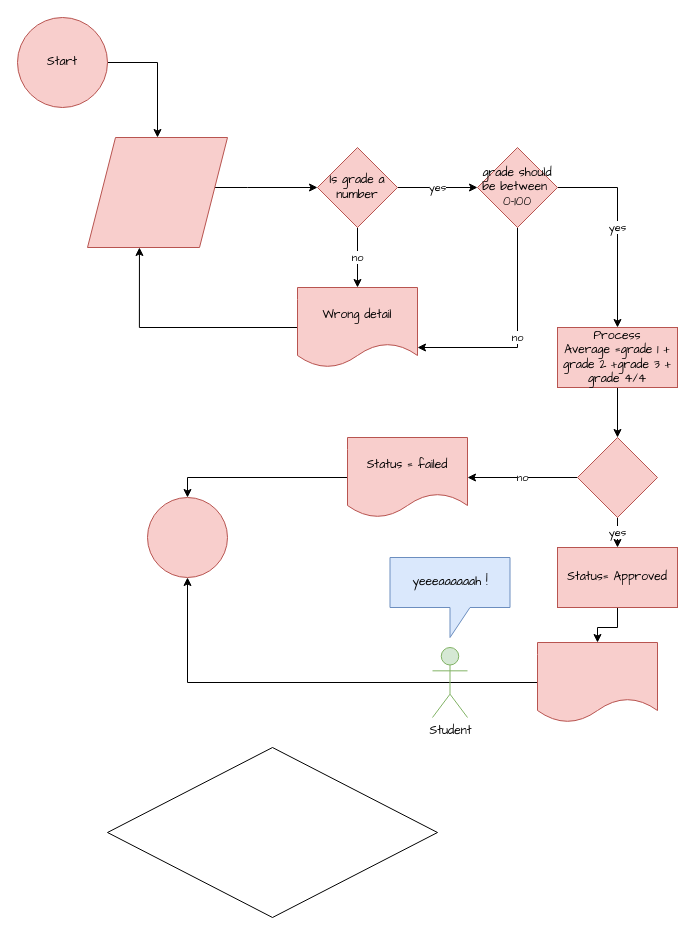
Some shapes in this 695 by 935 pixel diagram are drawn without their labels. Here are the shapes that lost their labels. From the top down, the centre of each, then its label:
the point at 157,192: INPUT grade 1 = ? grade 2 = ? grade 3 = ? grade 4 = ? Average status
the point at 617,477: Average >=60
the point at 187,537: End
the point at 597,682: Print Status
